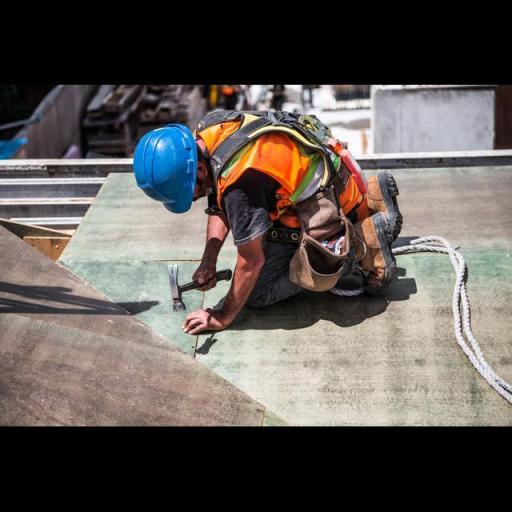Person: (111, 95, 439, 336)
boots: (349, 214, 402, 296), (358, 167, 406, 237)
helmet: (128, 122, 198, 220)
vest: (194, 104, 365, 237)
